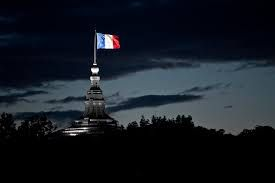French Flag: (96, 33, 121, 49)
